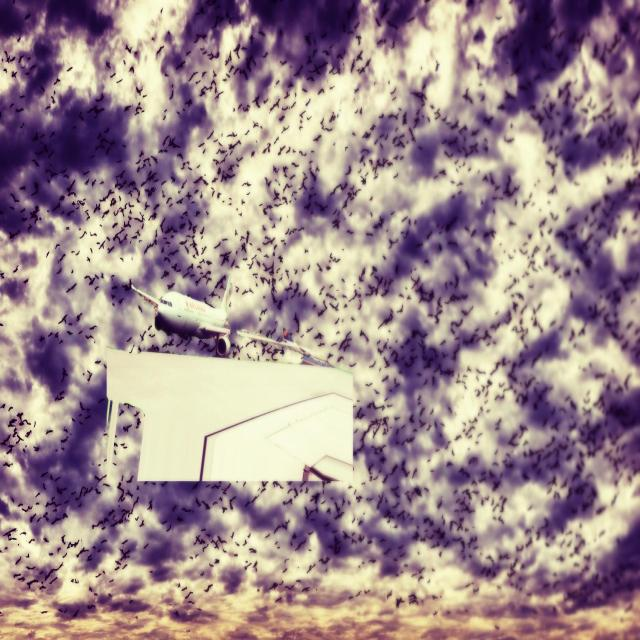airplane: (106, 271, 352, 483)
